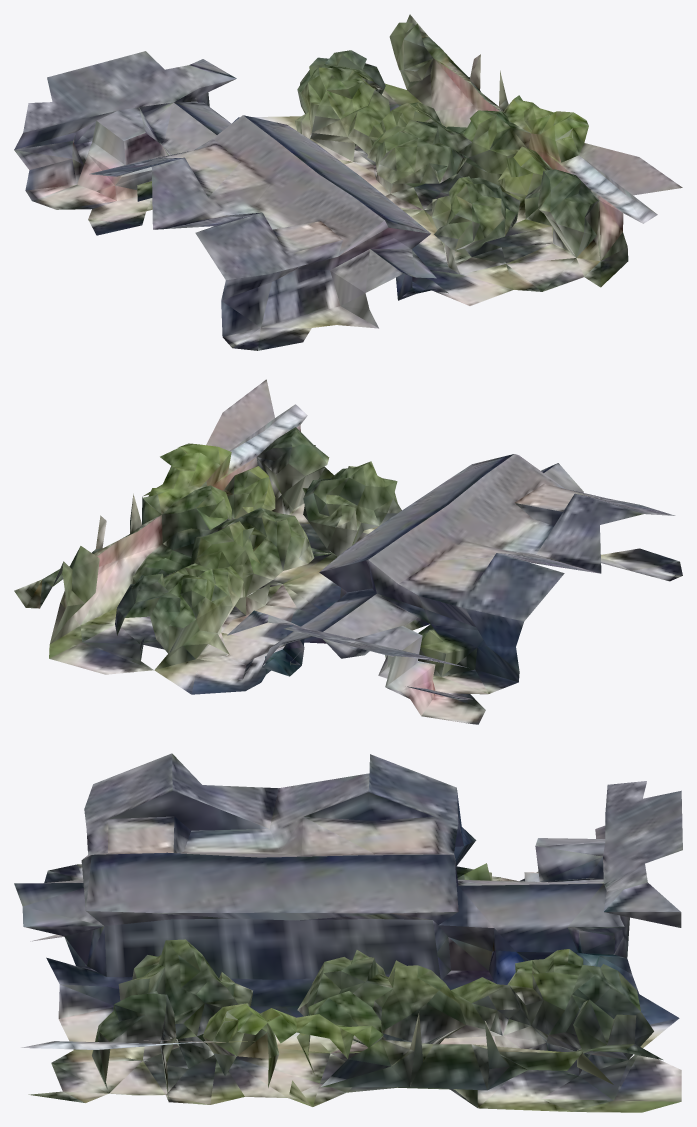
The model's file is Tile_+001_+006_L17_00.glb.
The picture shows the model from 3 angles, top to bottom: view 1: azimuth 30°, elevation 25°; view 2: azimuth 150°, elevation 25°; view 3: azimuth 270°, elevation 25°; orthographic projection. The views are drawn at different scales.
Parts seen in each view (by area): view 1: rtc; view 2: rtc; view 3: rtc.
Boxes of the visible parts, bbox=[...] form: rtc: bbox=[14, 14, 682, 350]; rtc: bbox=[14, 379, 682, 724]; rtc: bbox=[14, 753, 682, 1112].
Size of the model in its own units: 58.28 by 13.14 by 61.48.
Materials: 1 (1 with a texture image).
